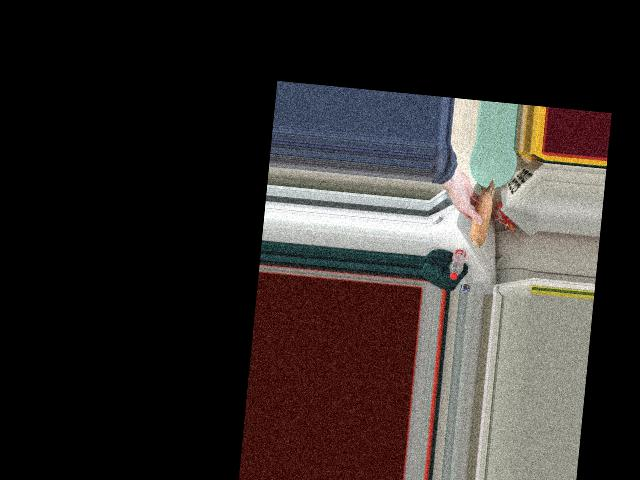sweet_potato: (470, 176, 495, 244)
